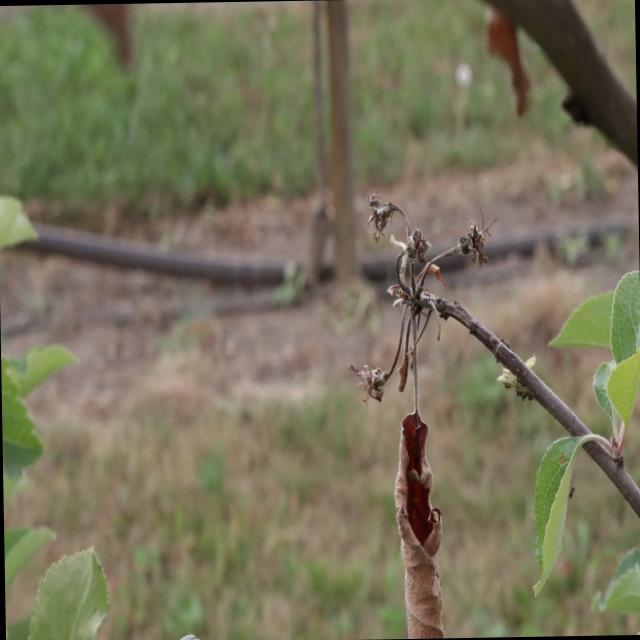-FireBlight-: (384, 401, 475, 638)
